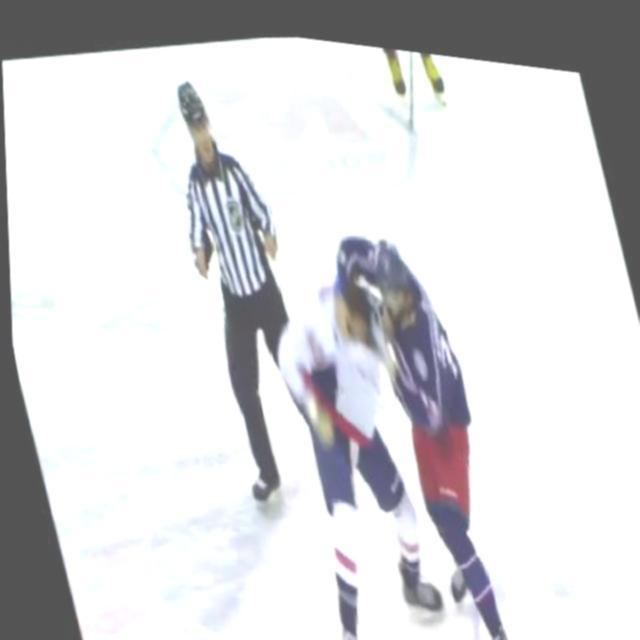fight: (235, 190, 538, 640)
